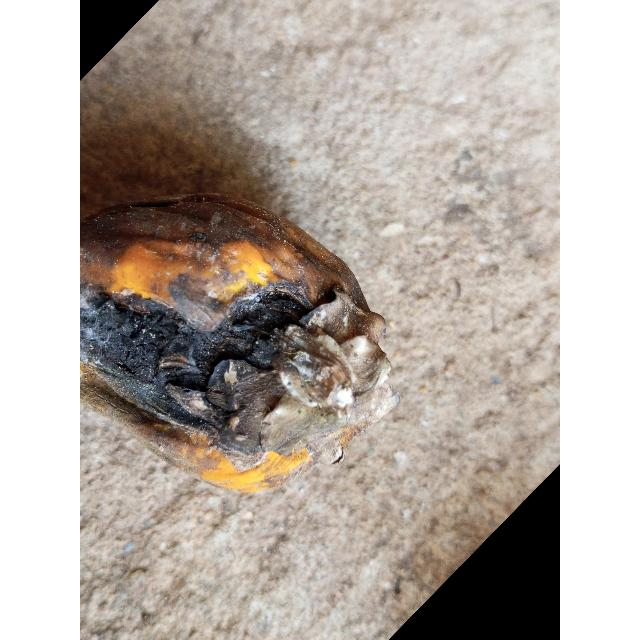damaged: (80, 194, 399, 493)
